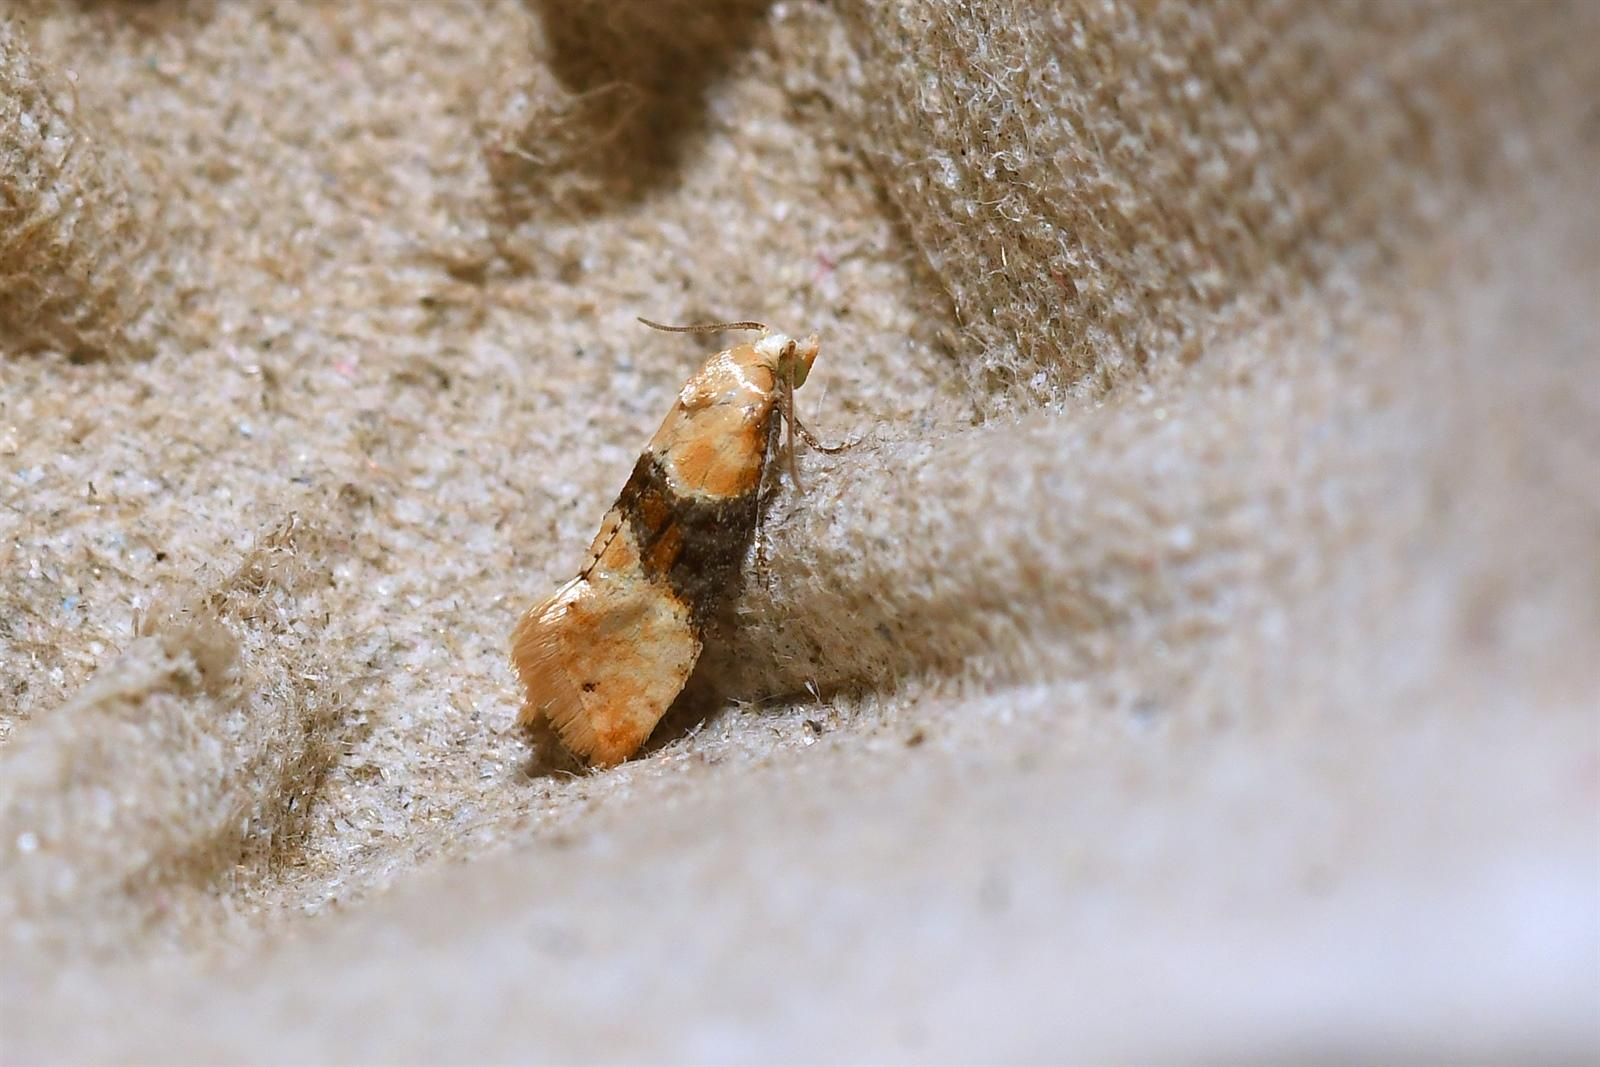Eupoecilia Ambiguella: (504, 312, 844, 775)
